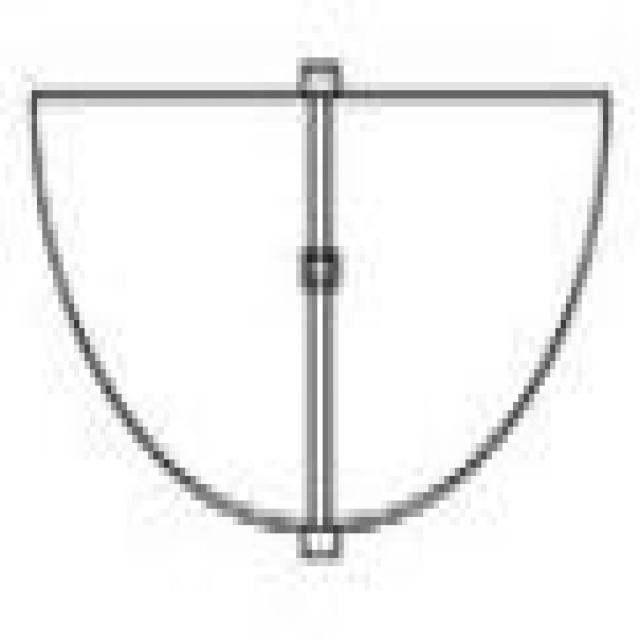door: (26, 57, 603, 550)
